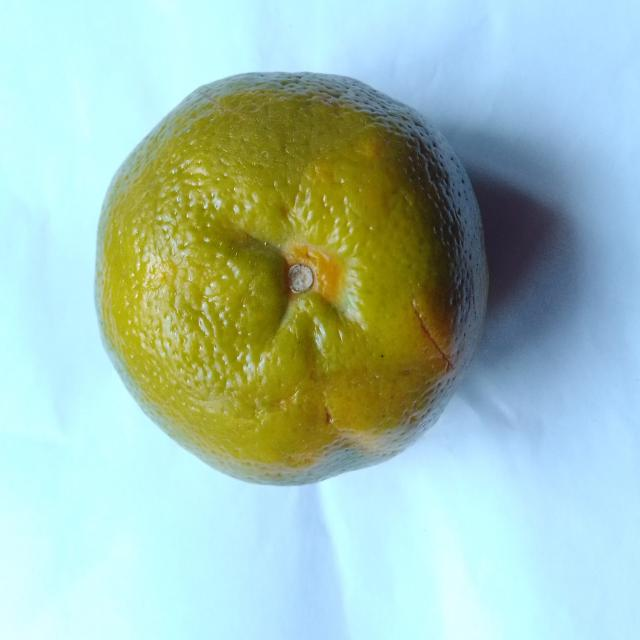orange: (96, 74, 487, 483)
